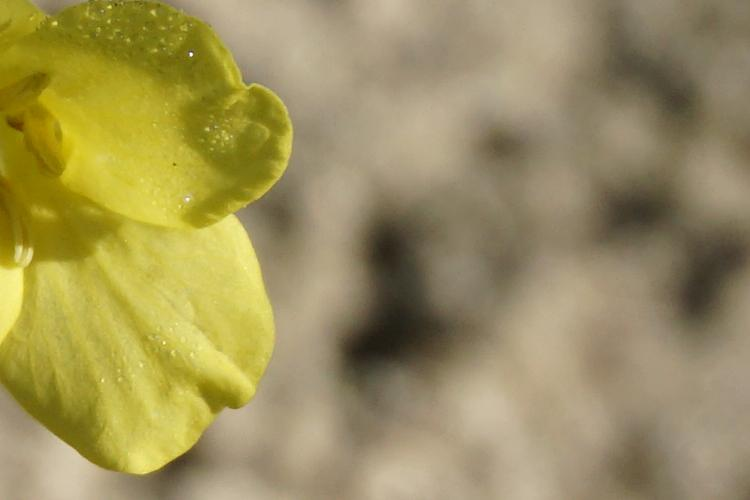yellow: (1, 3, 290, 459)
